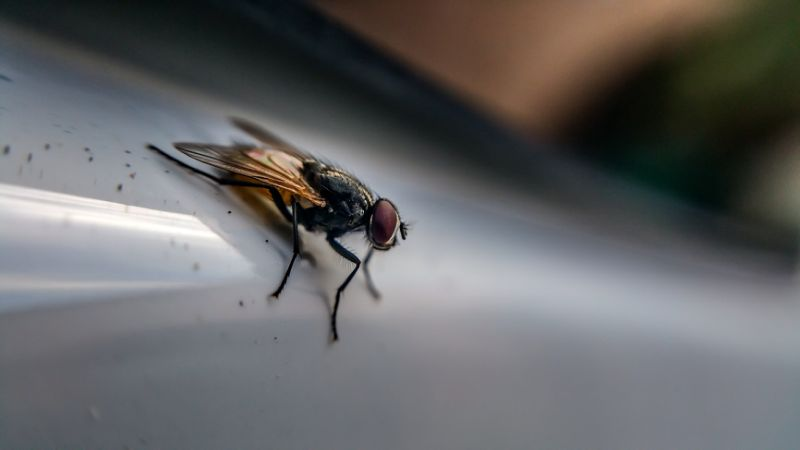fly: (137, 111, 415, 364)
